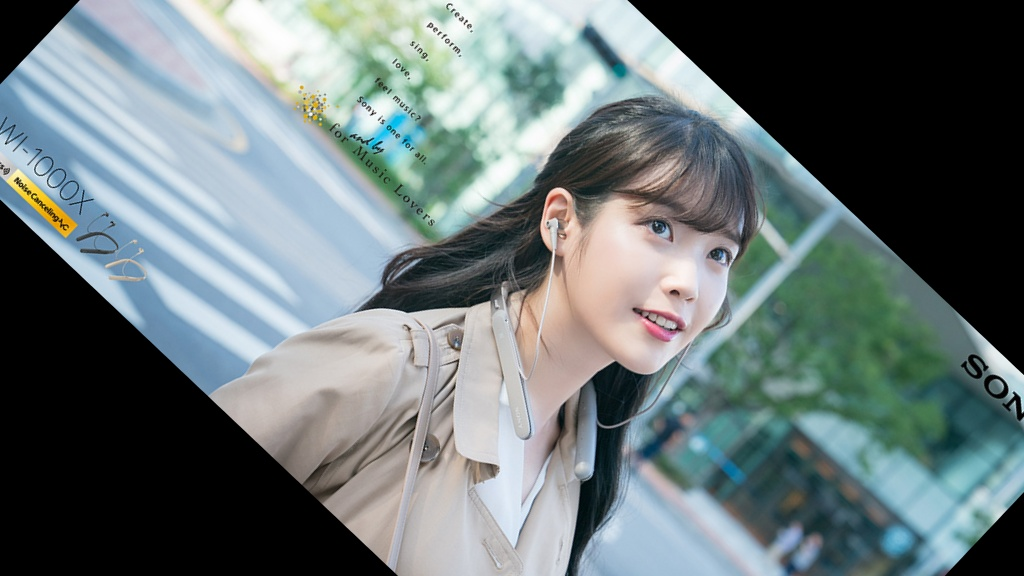earphone: (519, 181, 599, 261)
